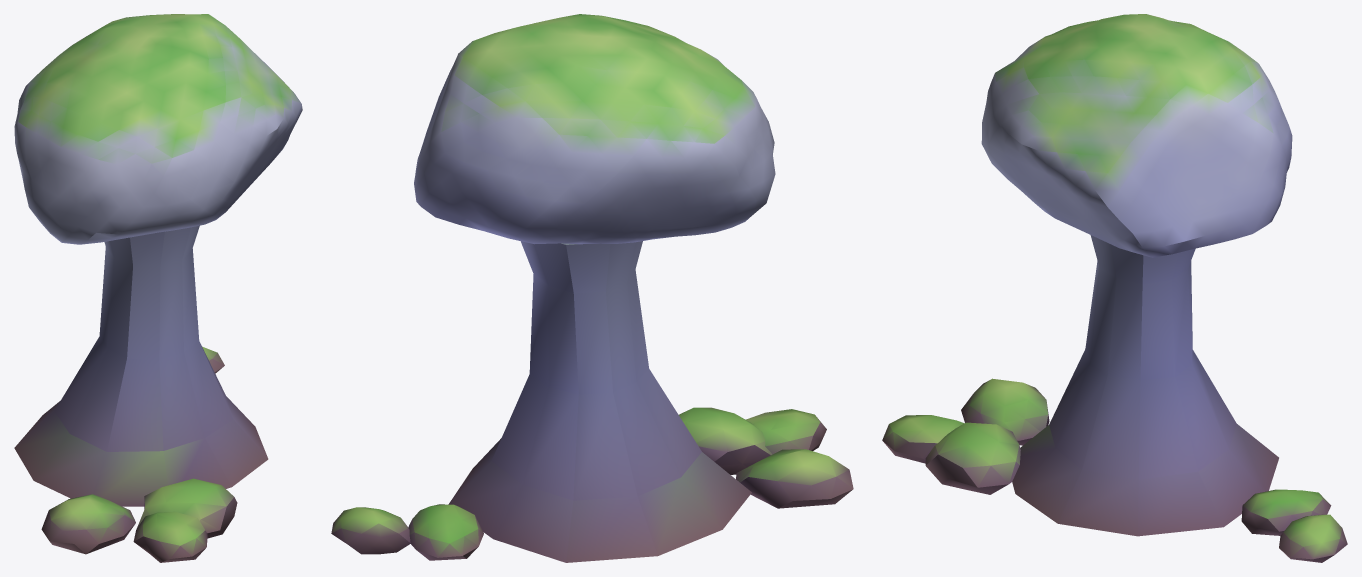
The model's file is verdant_pillar_balanced_a.glb.
3 renders of one model, left to right at view 1: azimuth 30°, elevation 25°; view 2: azimuth 150°, elevation 25°; view 3: azimuth 270°, elevation 25°, orthographic. The views are drawn at different scales.
Visible parts, largest first — view 1: verdant_pillar_balanced_a; view 2: verdant_pillar_balanced_a; view 3: verdant_pillar_balanced_a.
Part boxes in pixels (x1,y1,x2,y2): verdant_pillar_balanced_a: [14, 14, 302, 562]; verdant_pillar_balanced_a: [331, 14, 853, 562]; verdant_pillar_balanced_a: [882, 14, 1347, 562].
Bounding box in the file's own units: 5.51 × 7.1 × 6.46.
